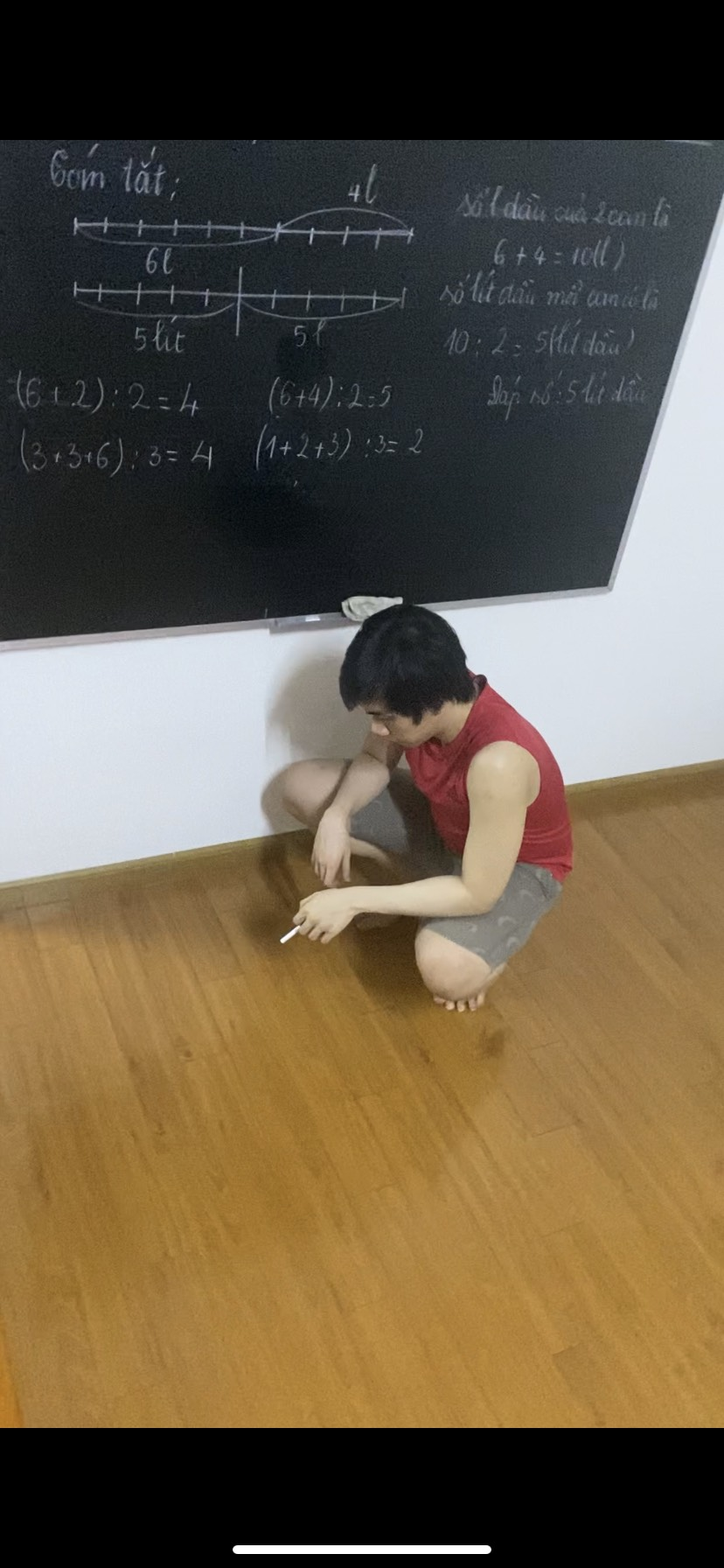cigarette: (276, 926, 300, 950)
person: (255, 597, 586, 1028)
